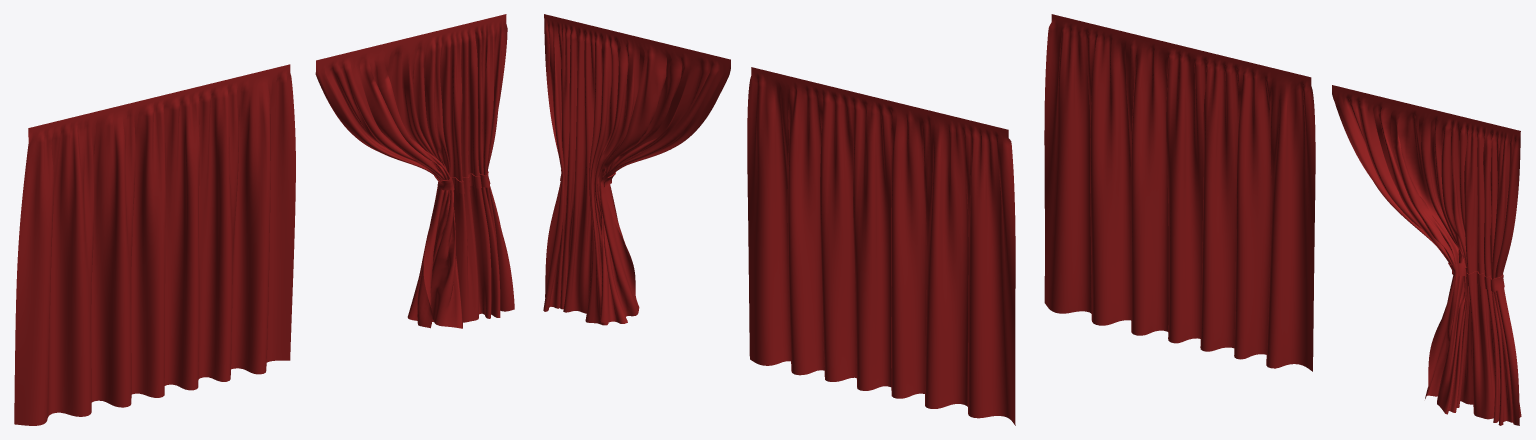
The model's file is curtain.glb.
The picture shows the model from 3 angles, left to right: view 1: azimuth 30°, elevation 25°; view 2: azimuth 150°, elevation 25°; view 3: azimuth 330°, elevation 25°; orthographic projection.
Bounding box in the file's own units: 4.38 × 2.54 × 0.4874.
